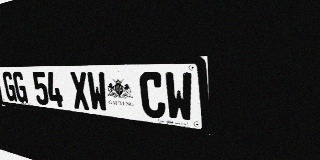4: (45, 72, 64, 107)
5: (32, 72, 50, 106)
C: (139, 72, 166, 119)
G: (12, 72, 28, 103), (2, 72, 17, 102)
W: (164, 72, 194, 123), (86, 72, 109, 113)
X: (69, 72, 90, 110)
